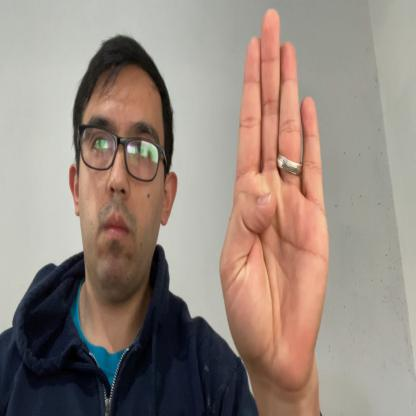B: (219, 8, 330, 396)
